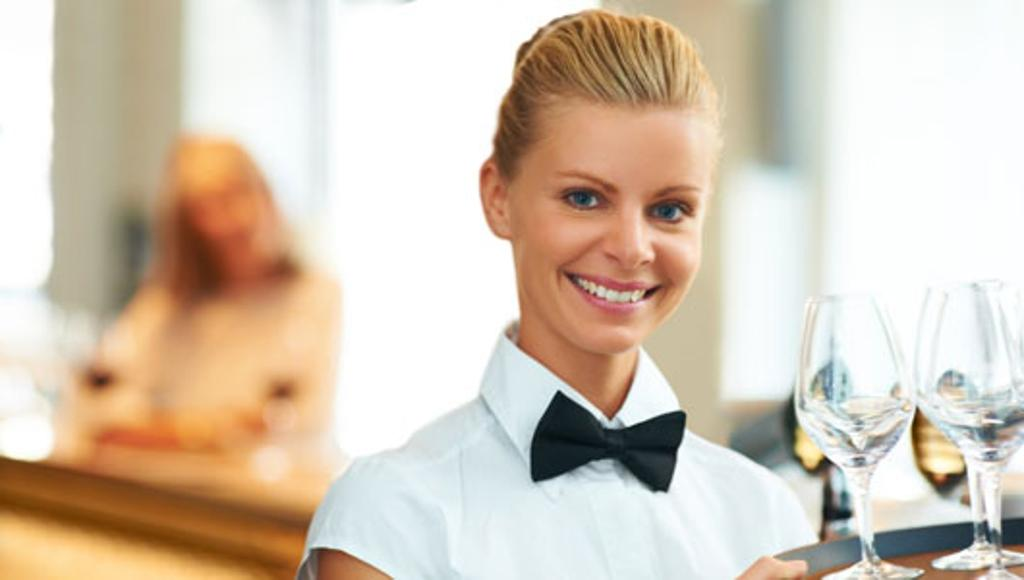face: (510, 88, 714, 352)
